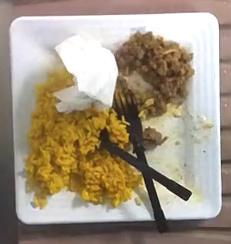beef: (114, 30, 192, 117)
rice: (25, 67, 140, 207)
